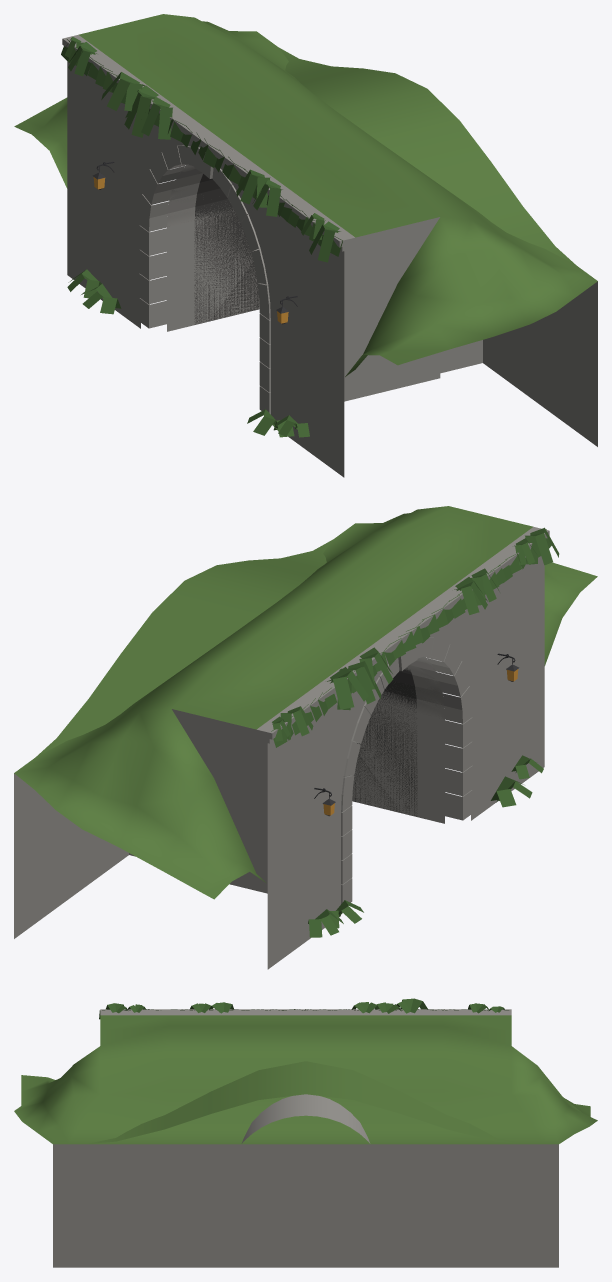
File: rail_tunnel_portal.glb
3 renders of one model, top to bottom at view 1: azimuth 30°, elevation 25°; view 2: azimuth 150°, elevation 25°; view 3: azimuth 270°, elevation 25°, orthographic. The views are drawn at different scales.
Parts seen in each view (by area): view 1: rail_tunnel_portal_lod0; view 2: rail_tunnel_portal_lod0; view 3: rail_tunnel_portal_lod0.
Part boxes in pixels (x1,y1,x2,y2): rail_tunnel_portal_lod0: (14,14,597,477); rail_tunnel_portal_lod0: (14,506,597,969); rail_tunnel_portal_lod0: (14,998,597,1267).
Size of what is drawn, in the model's own units: 7.04 by 6.45 by 18.47.
